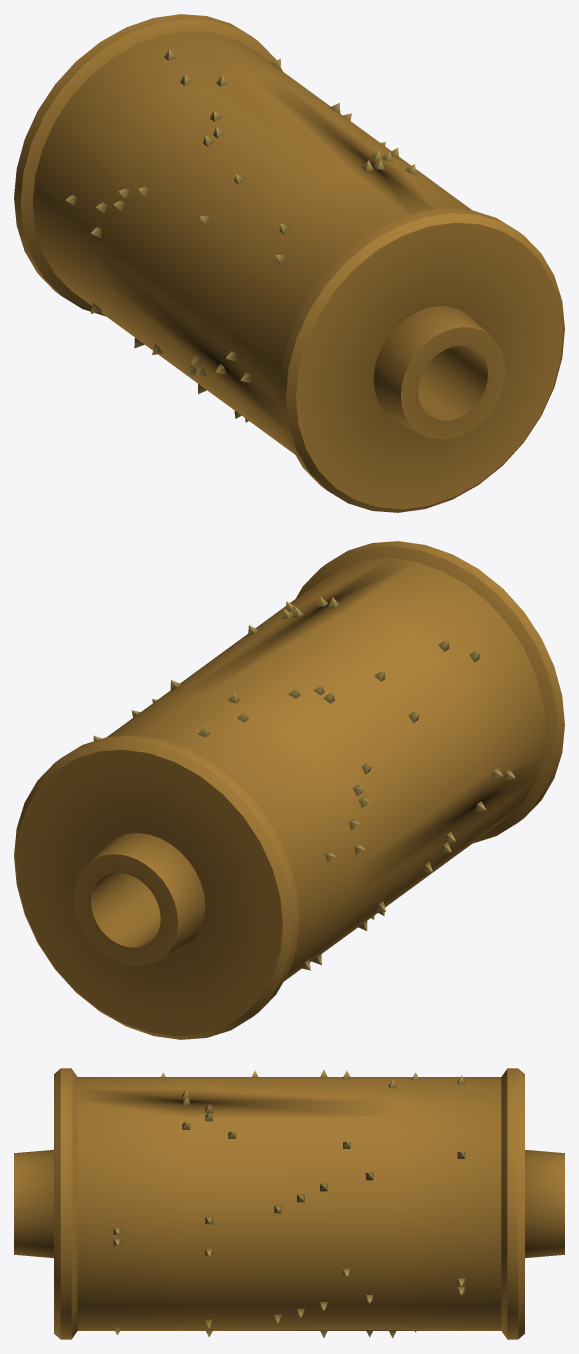
Rendered from cylinder_music_box.glb.
3 views of the same model, one above another, from view 1: azimuth 30°, elevation 25°; view 2: azimuth 150°, elevation 25°; view 3: azimuth 270°, elevation 25° (orthographic). The views are drawn at different scales.
Visible parts, largest first — view 1: Cylinder_MusicBox; view 2: Cylinder_MusicBox; view 3: Cylinder_MusicBox.
Part boxes in pixels (<box>): Cylinder_MusicBox: <box>14,14,564,512</box>; Cylinder_MusicBox: <box>14,541,564,1039</box>; Cylinder_MusicBox: <box>14,1068,564,1339</box>.
Size of the model in its own units: 0.032 by 0.032 by 0.065.
